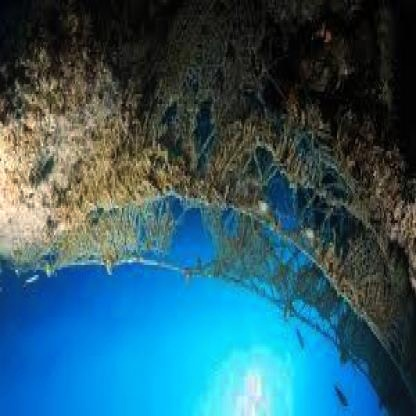net: (3, 3, 416, 382)
